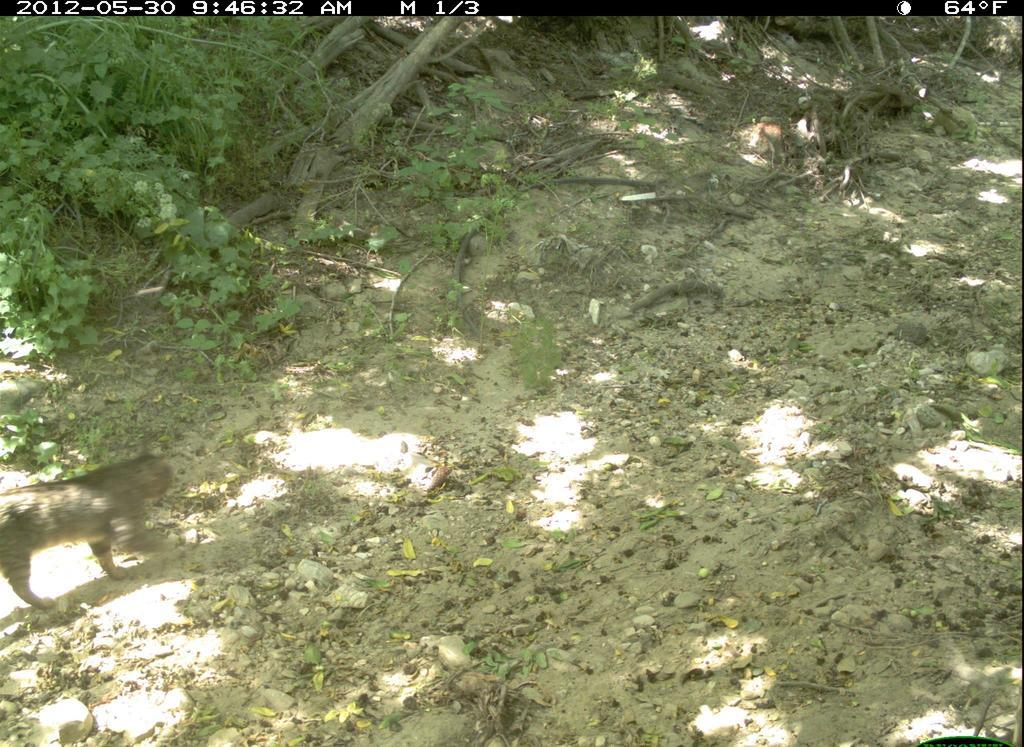cat: (6, 437, 186, 616)
